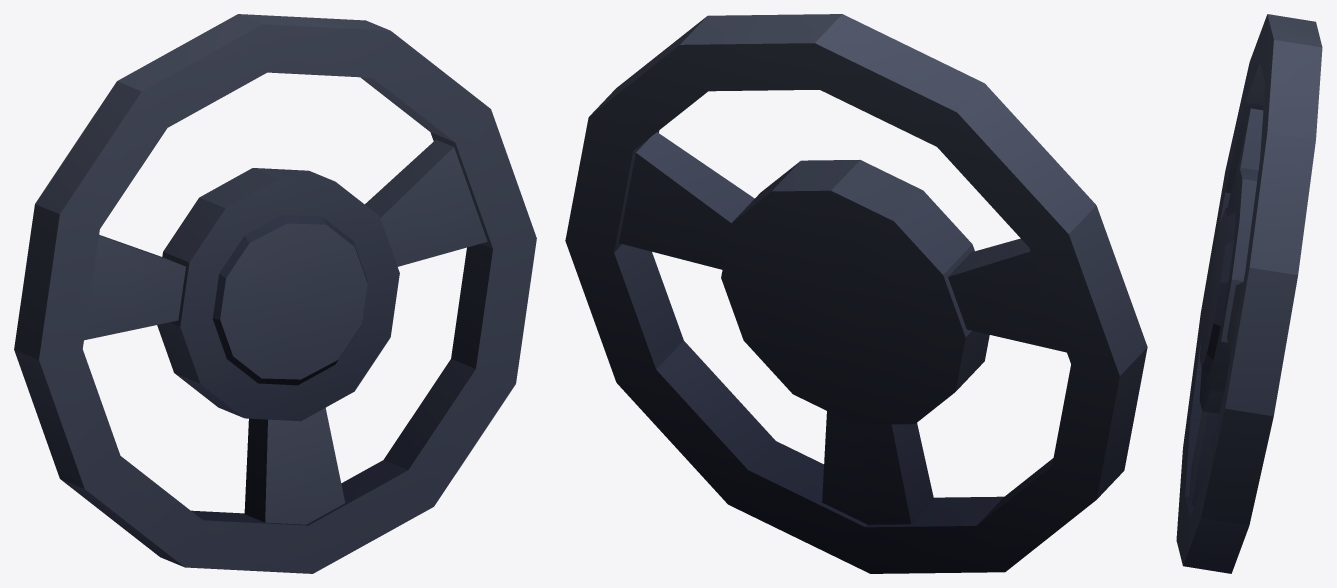
The model's file is Setir.fbx.
3 views of the same model, side by side, from view 1: azimuth 30°, elevation 25°; view 2: azimuth 150°, elevation 25°; view 3: azimuth 270°, elevation 25° (orthographic). The views are drawn at different scales.
Parts seen in each view (by area): view 1: Setir; view 2: Setir; view 3: Setir.
Part boxes in pixels (x1=…): Setir: x1=14, y1=14, x2=536, y2=573; Setir: x1=565, y1=14, x2=1147, y2=573; Setir: x1=1176, y1=14, x2=1322, y2=573.
Size of the model in its own units: 0.7282 by 0.7282 by 0.1895.
